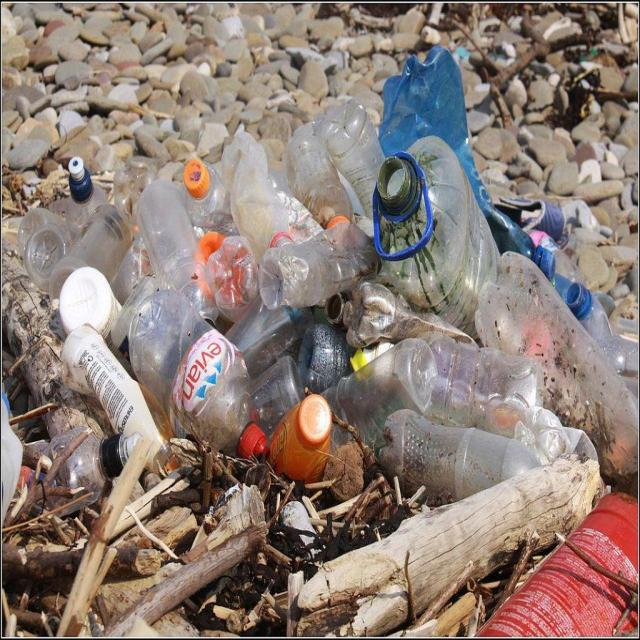plastic_bottle: (371, 52, 581, 316), (472, 236, 640, 507), (124, 282, 274, 476), (363, 132, 494, 331), (378, 397, 552, 505), (58, 325, 168, 492), (413, 322, 552, 445), (310, 338, 442, 433), (256, 362, 342, 502), (125, 161, 202, 290), (324, 95, 400, 222), (279, 126, 358, 234), (50, 148, 121, 255), (31, 431, 150, 493), (13, 194, 68, 288), (183, 146, 233, 248), (57, 266, 124, 338)
